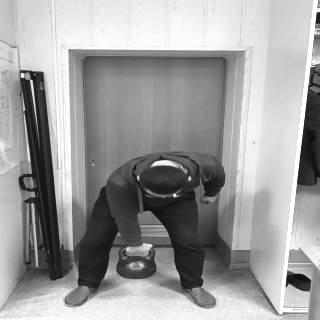kettlebell: (116, 247, 158, 281)
